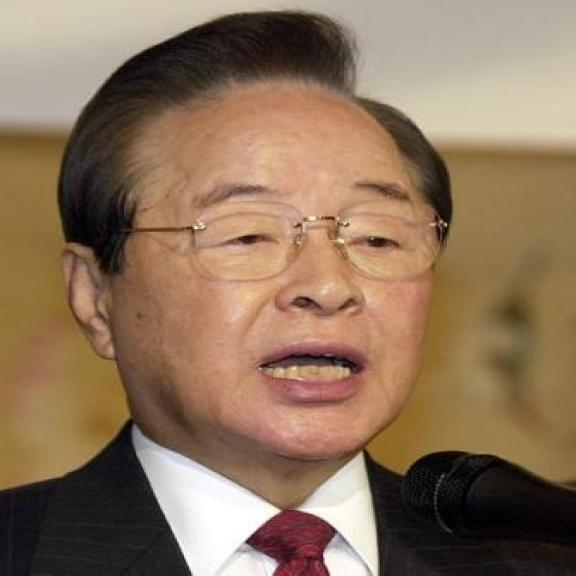face: (52, 87, 450, 466)
